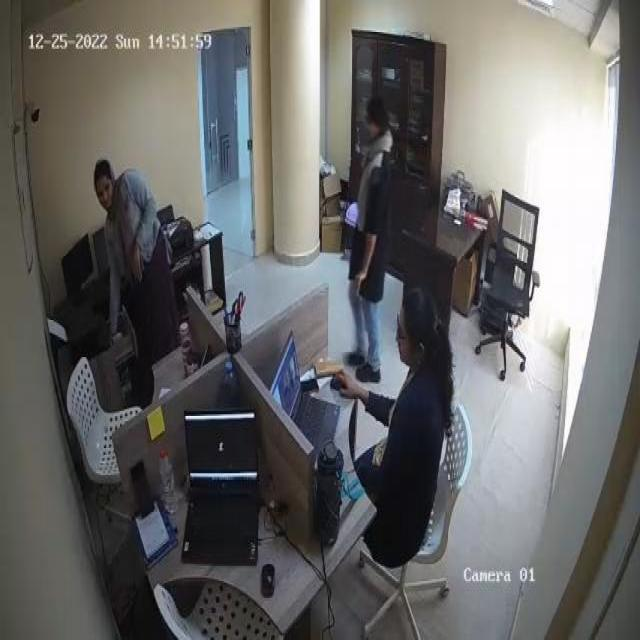bare_hand: (331, 364, 369, 403), (125, 237, 151, 290), (348, 268, 374, 303)
